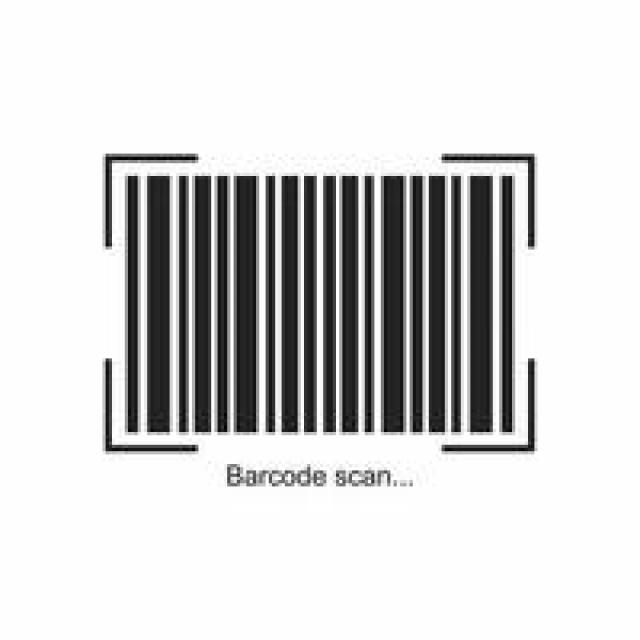Barkod: (86, 129, 554, 500)
